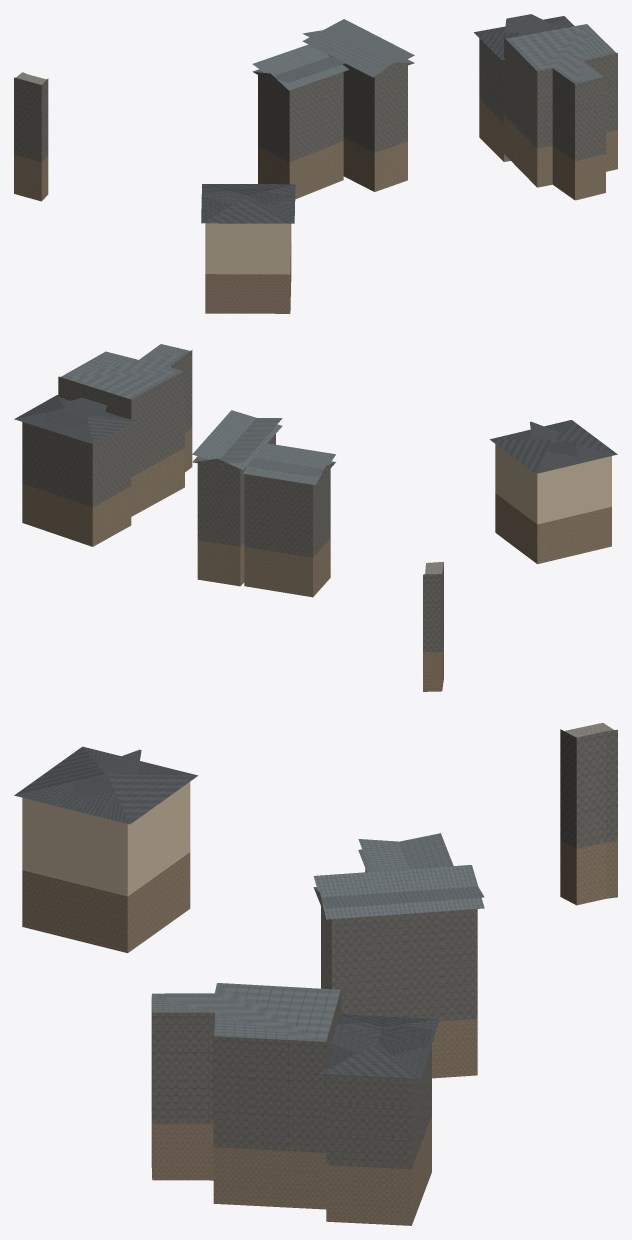
Rendered from bld_c5_9_479.gltf.
3 views of the same model, one above another, from view 1: azimuth 30°, elevation 25°; view 2: azimuth 150°, elevation 25°; view 3: azimuth 270°, elevation 25° (orthographic). The views are drawn at different scales.
Parts seen in each view (by area): view 1: bld_c5_9_479; view 2: bld_c5_9_479; view 3: bld_c5_9_479.
Boxes of the visible parts, x1=… form: bld_c5_9_479: x1=14, y1=14, x2=617, y2=313; bld_c5_9_479: x1=14, y1=344, x2=617, y2=691; bld_c5_9_479: x1=14, y1=723, x2=617, y2=1225.
Bounding box in the file's own units: 66.07 × 17.4 × 49.23.
7 materials, 7 textured.
